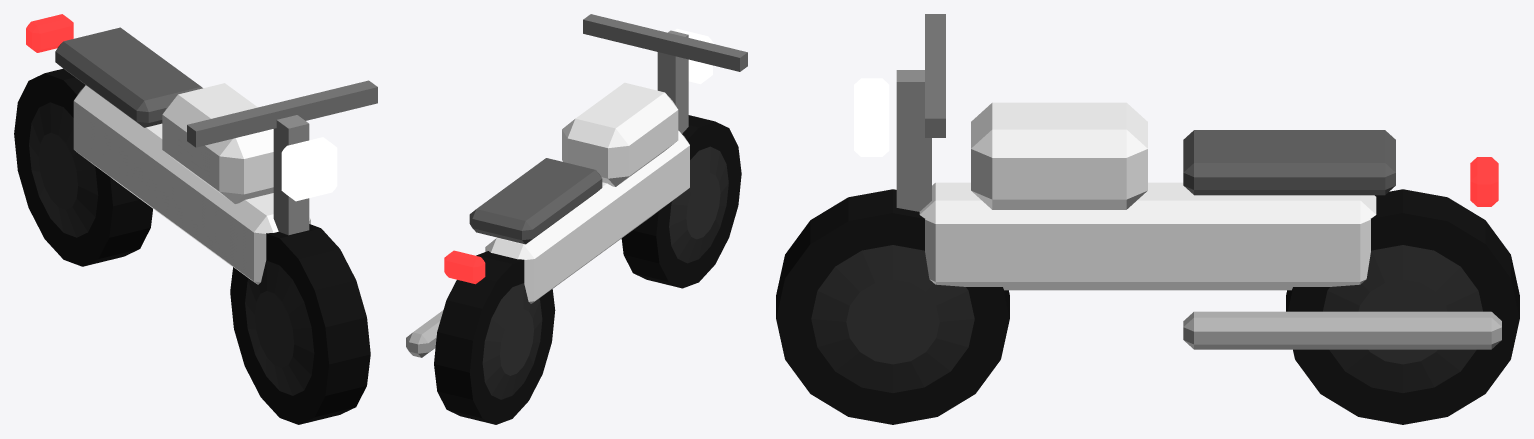
File: moto.glb
The picture shows the model from 3 angles, left to right: view 1: azimuth 30°, elevation 25°; view 2: azimuth 150°, elevation 25°; view 3: azimuth 270°, elevation 25°; orthographic projection. The views are drawn at different scales.
Visible parts, largest first — view 1: Body, WheelF, WheelR; view 2: Body, WheelR, WheelF; view 3: Body, WheelF, WheelR.
Part boxes in pixels (box(x1,y1,x2,y2)): Body: box(26, 14, 377, 284); WheelF: box(230, 224, 370, 424); WheelR: box(14, 68, 152, 266); Body: box(406, 14, 747, 357); WheelR: box(434, 251, 555, 424); WheelF: box(621, 115, 741, 288); Body: box(854, 14, 1501, 349); WheelF: box(776, 189, 1009, 424); WheelR: box(1286, 189, 1519, 424).
Size of the model in its own units: 0.7 by 1.08 by 2.1.
